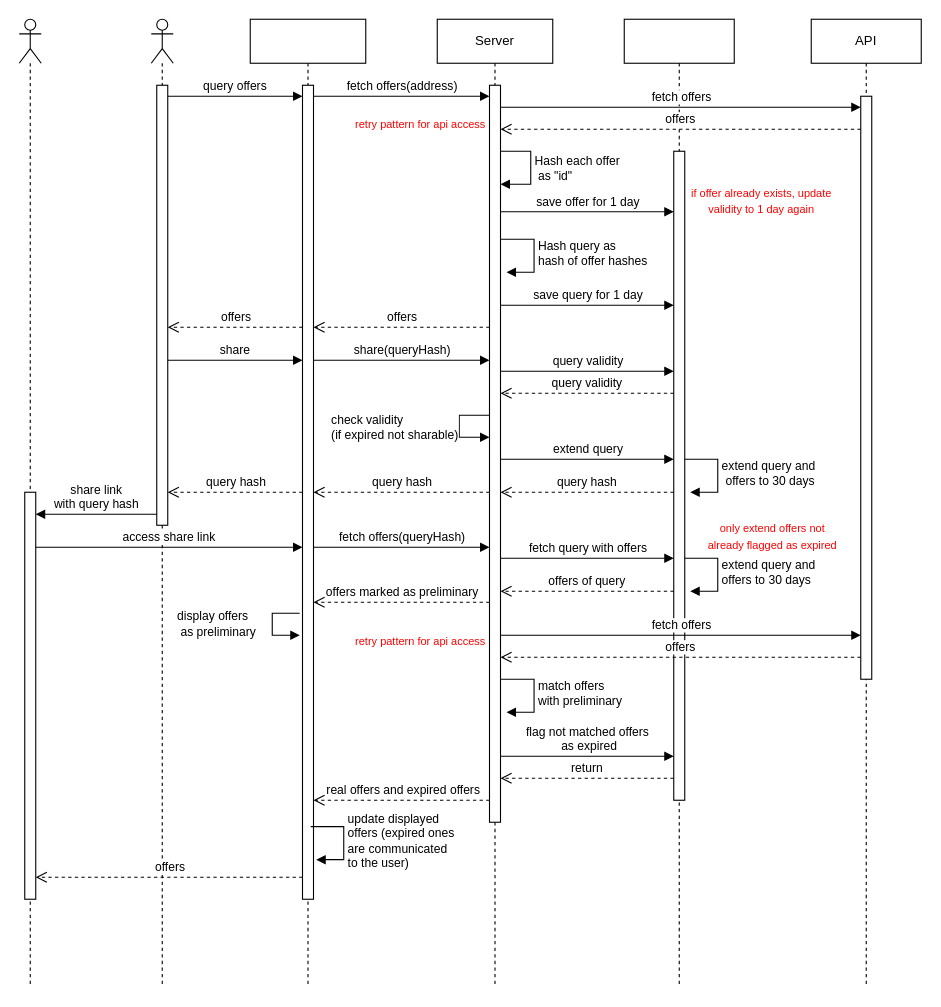
The diagram is 941 pixels wide and 1007 high, and some of its shapes have lost their labels. Each missing label, with the box of its shape:
Client: (249, 18, 366, 987)
Database: (623, 18, 734, 987)
